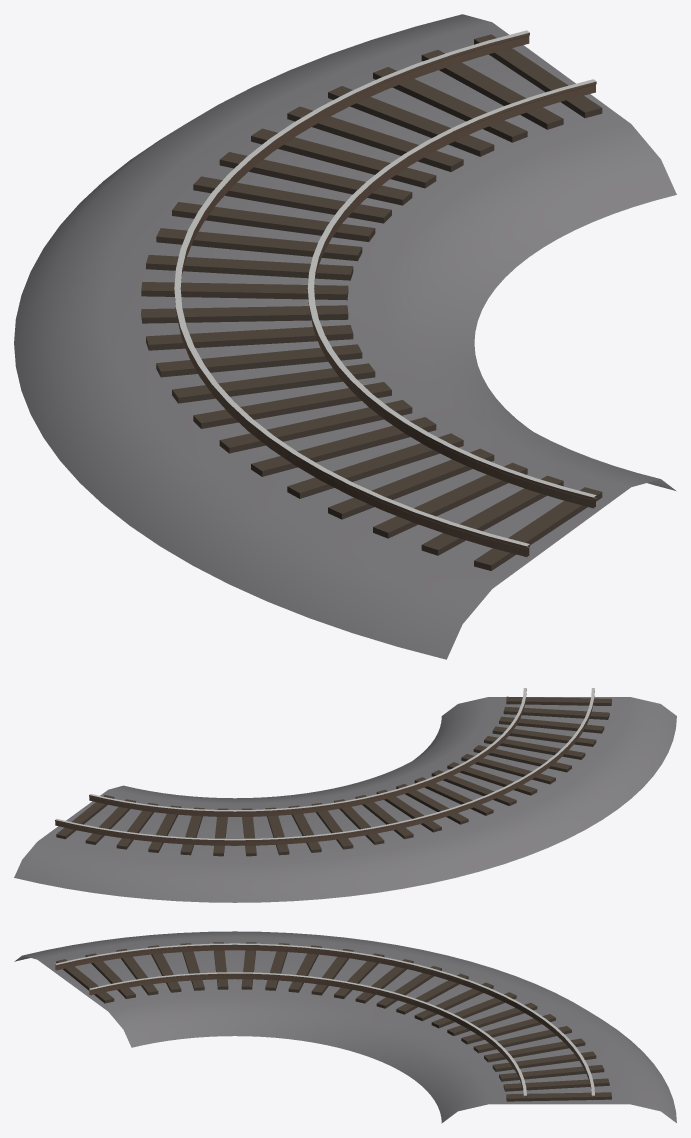
File: rail_bend_60_center.glb
3 views of the same model, one above another, from view 1: azimuth 30°, elevation 25°; view 2: azimuth 150°, elevation 25°; view 3: azimuth 270°, elevation 25° (orthographic). The views are drawn at different scales.
Parts seen in each view (by area): view 1: rail_bend_60_center_lod0; view 2: rail_bend_60_center_lod0; view 3: rail_bend_60_center_lod0.
Part boxes in pixels (box(x1,y1,x2,y2)): rail_bend_60_center_lod0: box(14, 14, 676, 659); rail_bend_60_center_lod0: box(14, 688, 676, 902); rail_bend_60_center_lod0: box(14, 931, 676, 1123).
Size of what is drawn, in the model's own units: 10.9 by 0.76 by 16.35.
